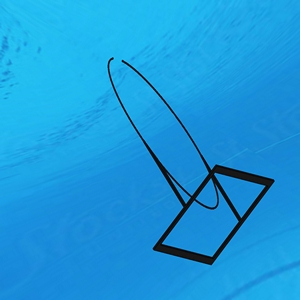circle: (107, 55, 278, 267)
